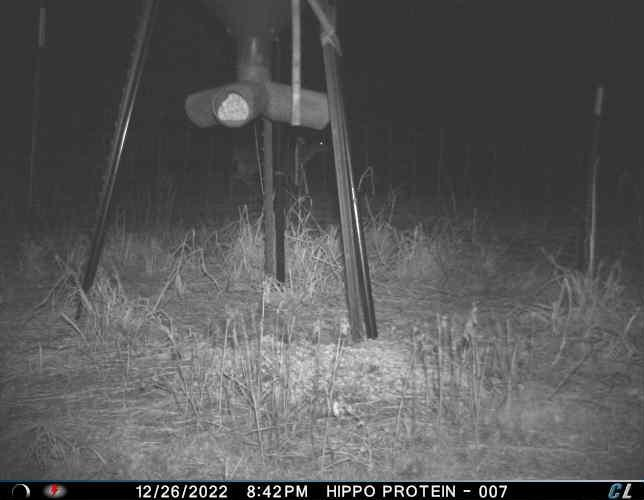Deer: (227, 130, 336, 198)
